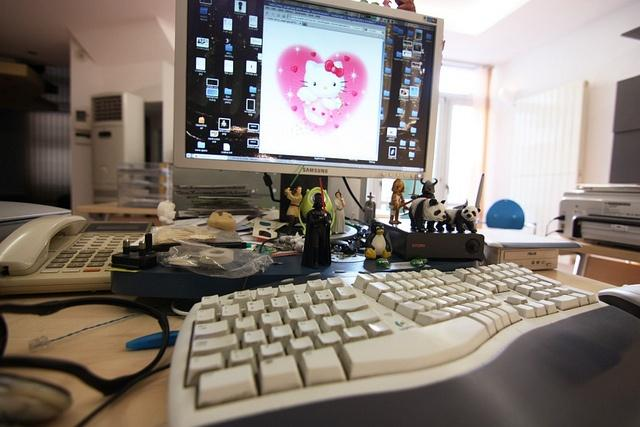AIO PC-Monitor-TV: (172, 0, 445, 181)
